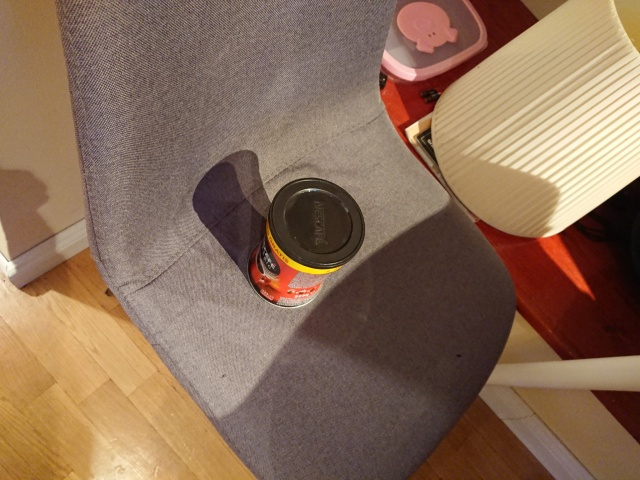Nescafe Classic 225g: (244, 174, 369, 312)
